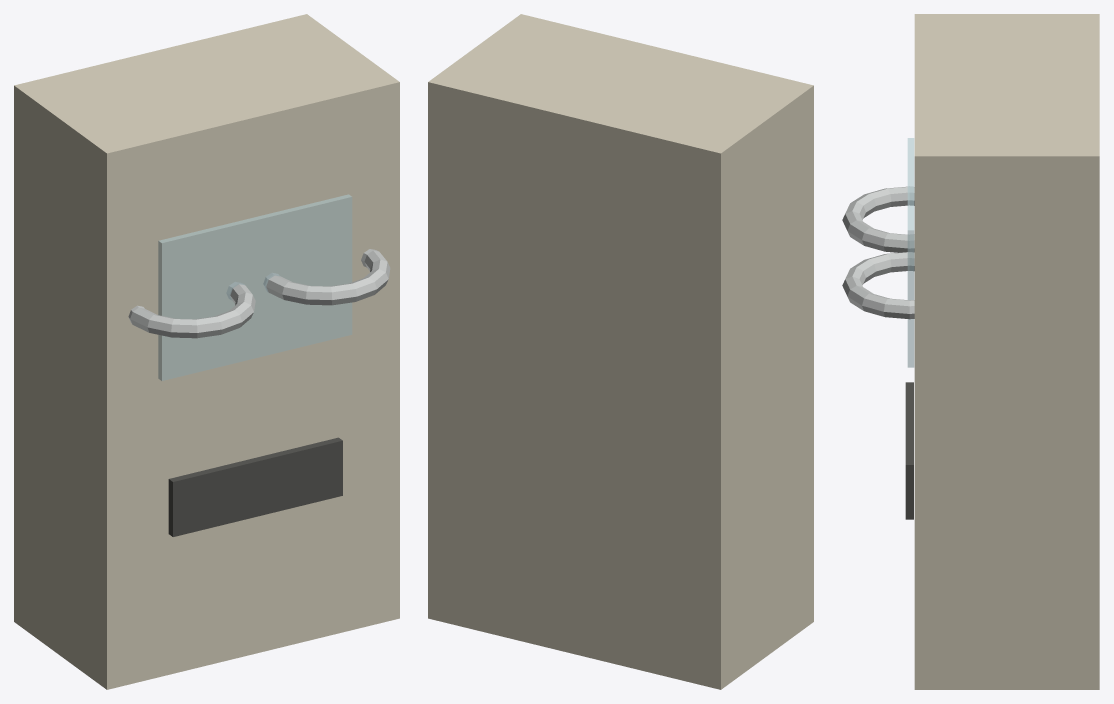
The model's file is tape_drive_01.glb.
3 renders of one model, left to right at view 1: azimuth 30°, elevation 25°; view 2: azimuth 150°, elevation 25°; view 3: azimuth 270°, elevation 25°, orthographic.
Parts seen in each view (by area): view 1: cab, window, panel, reel0.23, reel-0.23; view 2: cab; view 3: cab, reel0.23, reel-0.23, window, panel.
Part boxes in pixels (bbox=[...]): cab: bbox=[14, 14, 399, 689]; window: bbox=[158, 194, 352, 380]; panel: bbox=[168, 437, 342, 536]; reel0.23: bbox=[263, 249, 390, 305]; reel-0.23: bbox=[128, 282, 255, 338]; cab: bbox=[428, 14, 813, 689]; cab: bbox=[914, 14, 1099, 689]; reel0.23: bbox=[842, 252, 914, 319]; reel-0.23: bbox=[842, 186, 914, 252]; window: bbox=[907, 138, 914, 367]; panel: bbox=[905, 382, 913, 519].
Bounding box in the file's own units: 1 × 1.75 × 0.765.
